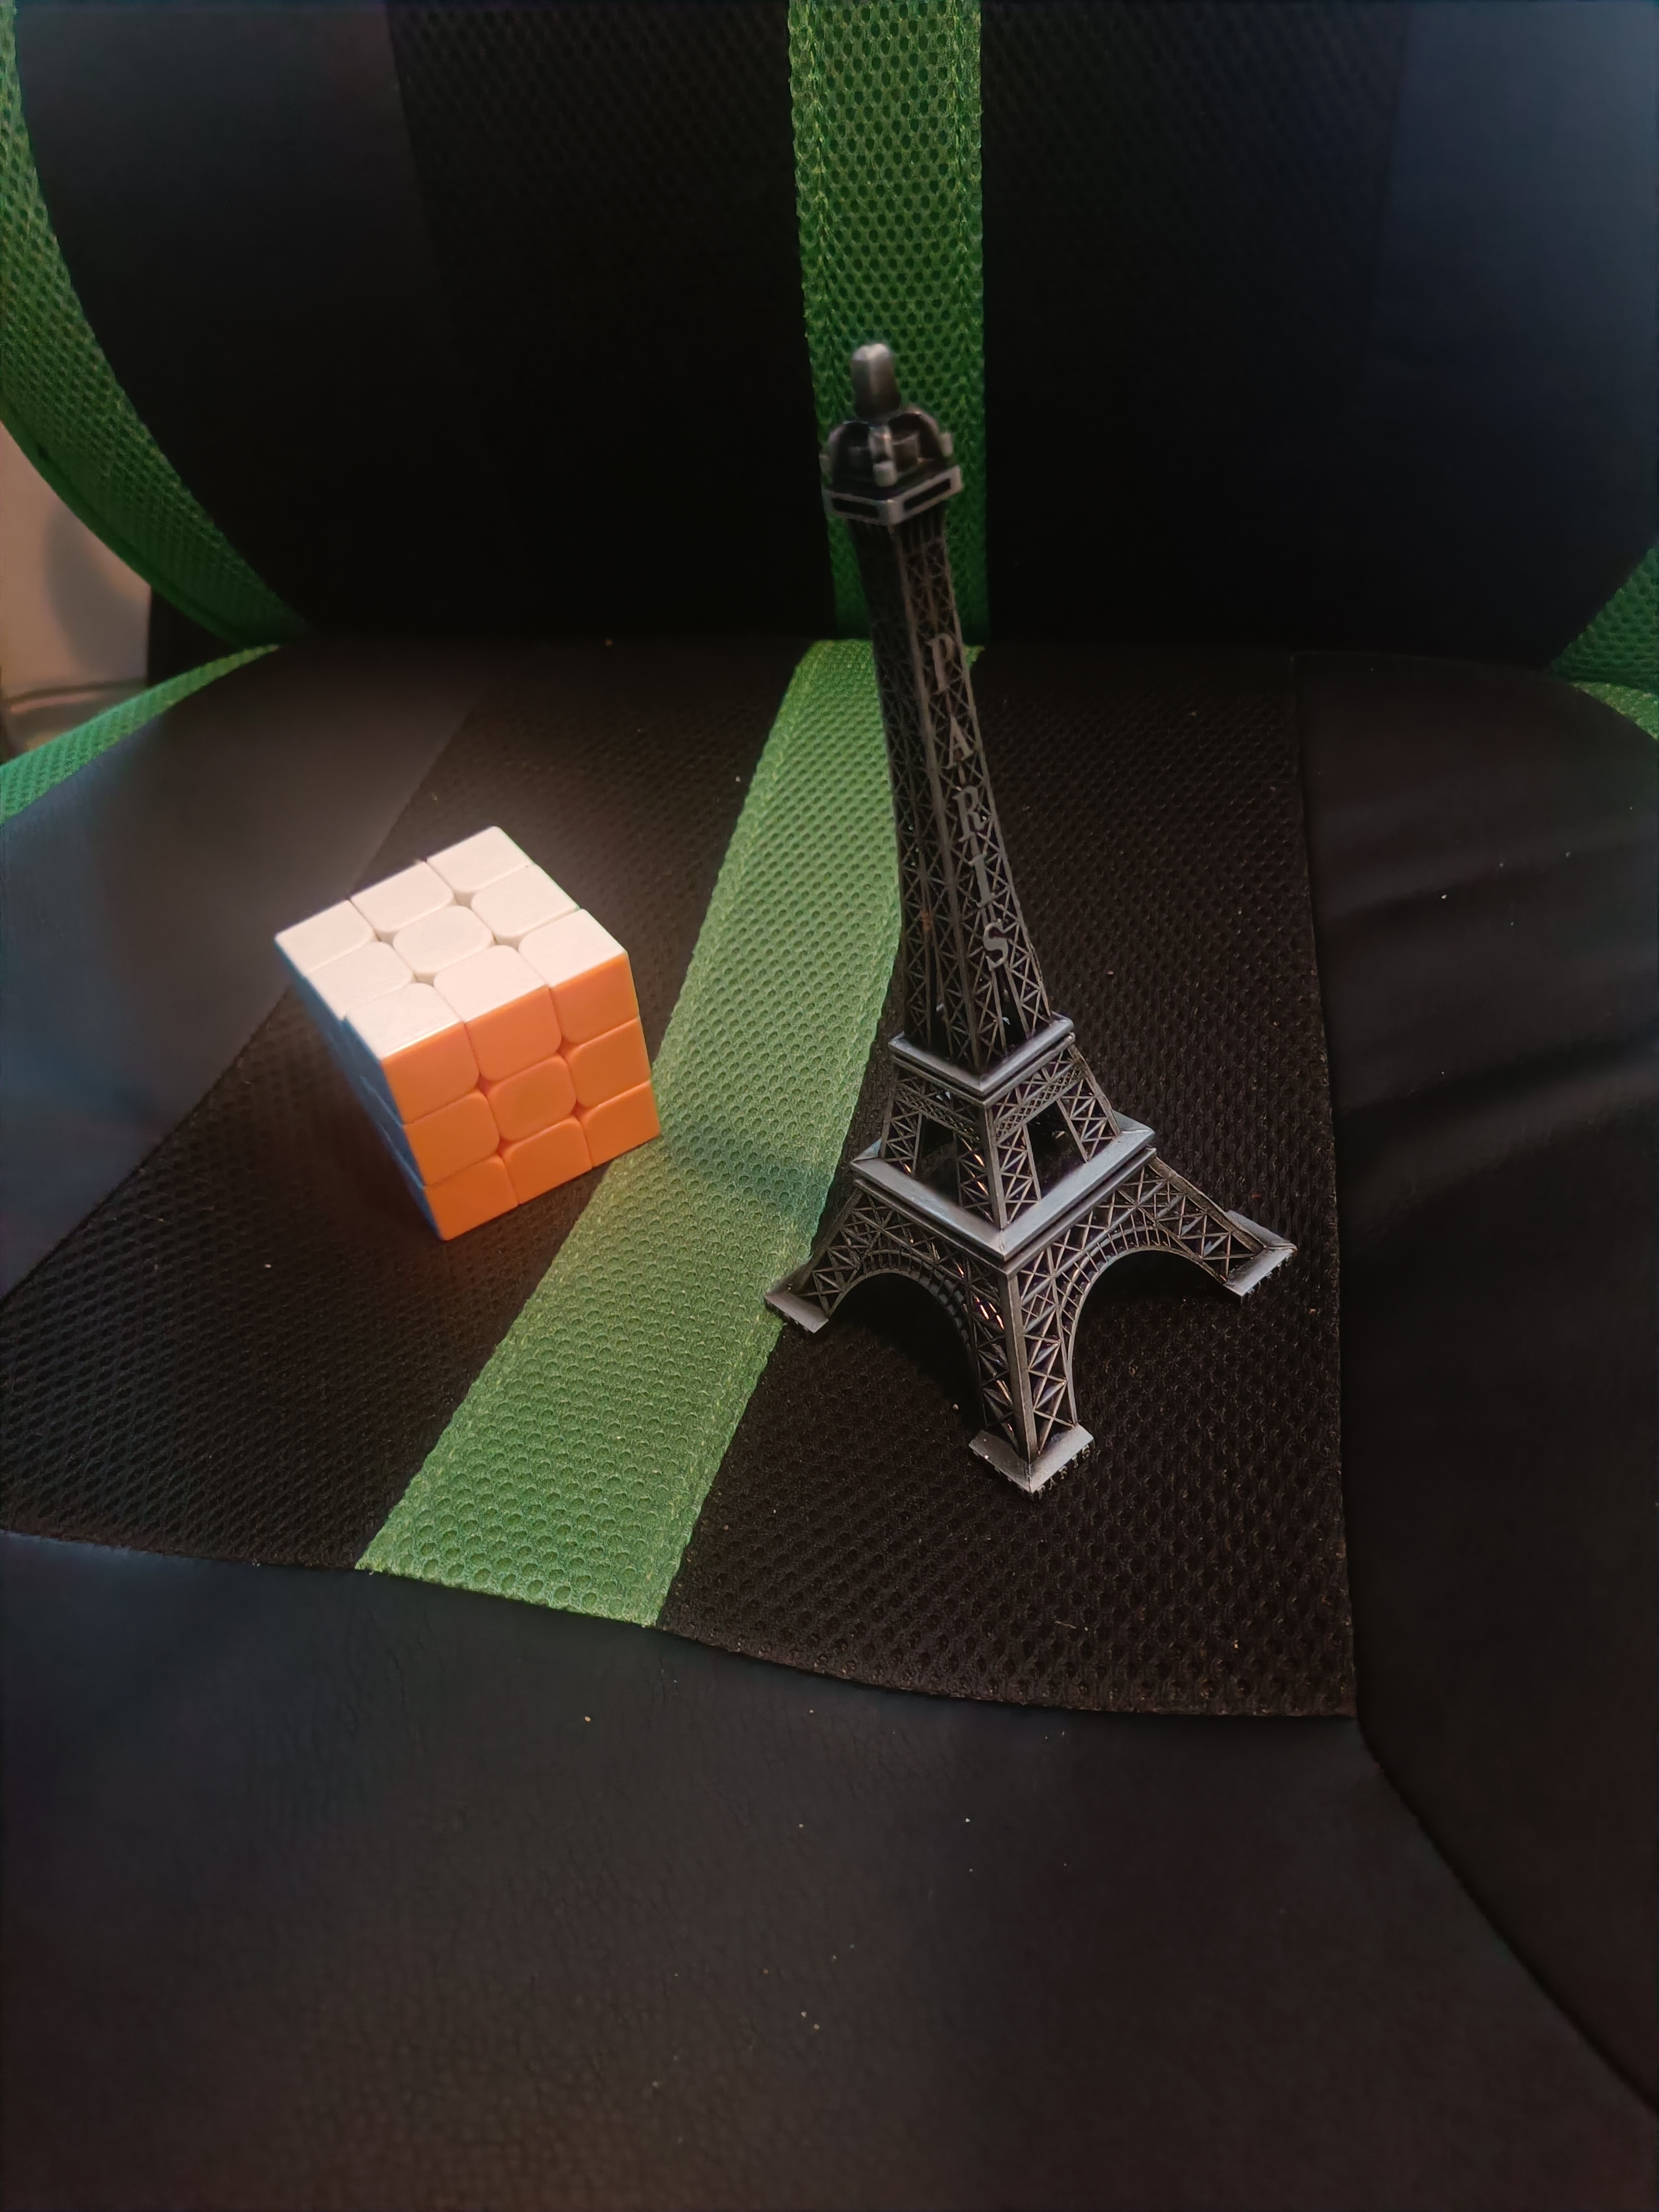Eiffel Tower: (760, 312, 1307, 1505)
Rubiks Cube: (254, 791, 676, 1270)
